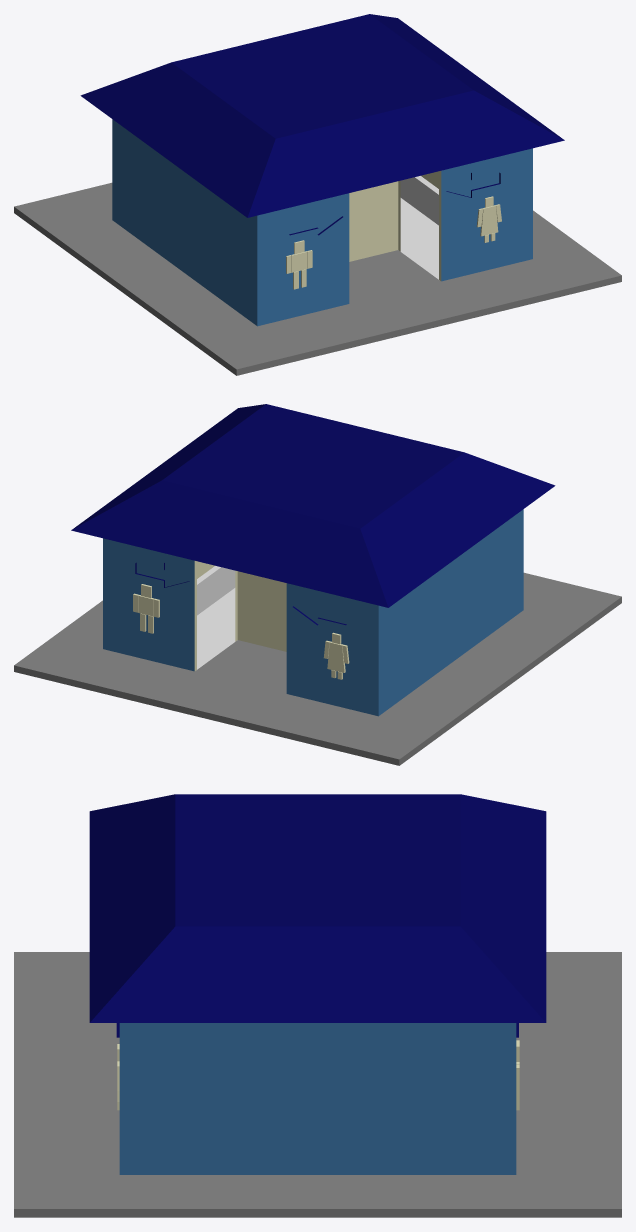
File: Toilet3.dae
3 renders of one model, top to bottom at view 1: azimuth 30°, elevation 25°; view 2: azimuth 150°, elevation 25°; view 3: azimuth 270°, elevation 25°, orthographic. The views are drawn at different scales.
Parts seen in each view (by area): view 1: Toilet3; view 2: Toilet3; view 3: Toilet3.
Part boxes in pixels (x1,y1,x2,y2): Toilet3: (14, 14, 621, 375); Toilet3: (14, 404, 621, 765); Toilet3: (14, 794, 621, 1217).
Bounding box in the file's own units: 10.21 × 10.21 × 4.3.
